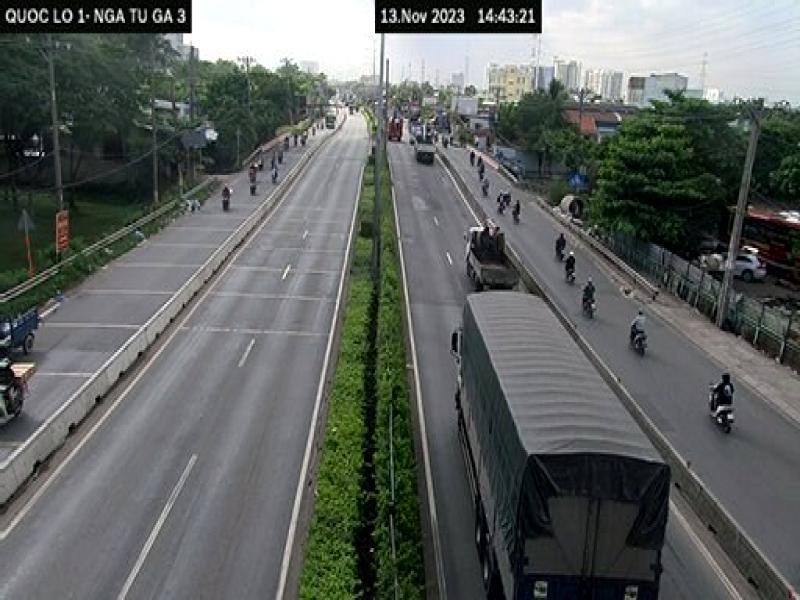truck: (462, 219, 524, 296)
